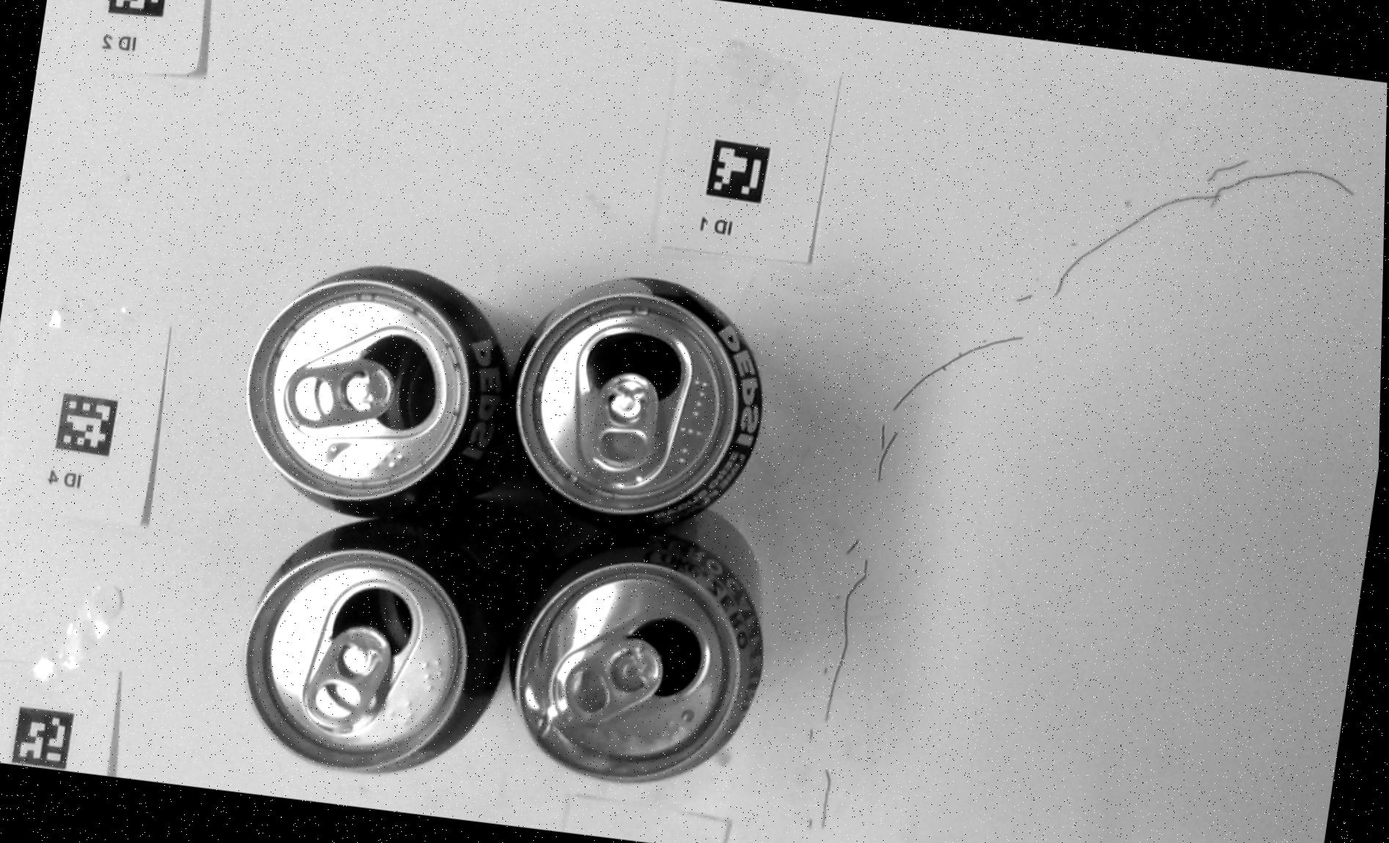can_coke_decaf: (510, 532, 764, 781)
can_coke_zero: (246, 520, 504, 770)
can_pepsi: (248, 265, 511, 515)
can_pepsi_zero: (514, 277, 762, 526)
